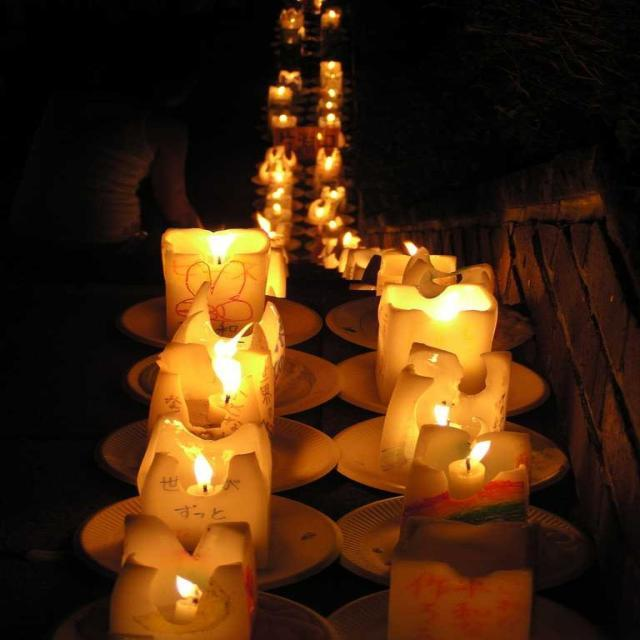Fire: (192, 325, 270, 415), (389, 278, 498, 328), (156, 434, 238, 496), (150, 564, 230, 614), (436, 402, 492, 462), (200, 221, 254, 263)
